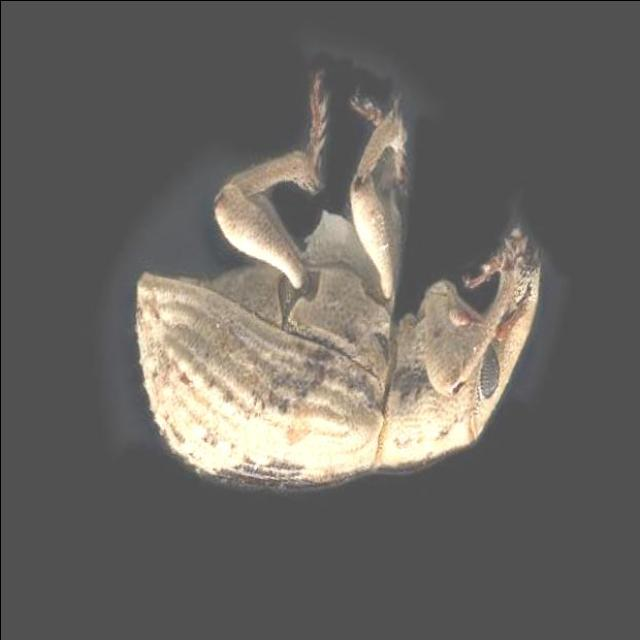ricebug: (135, 70, 540, 488)
